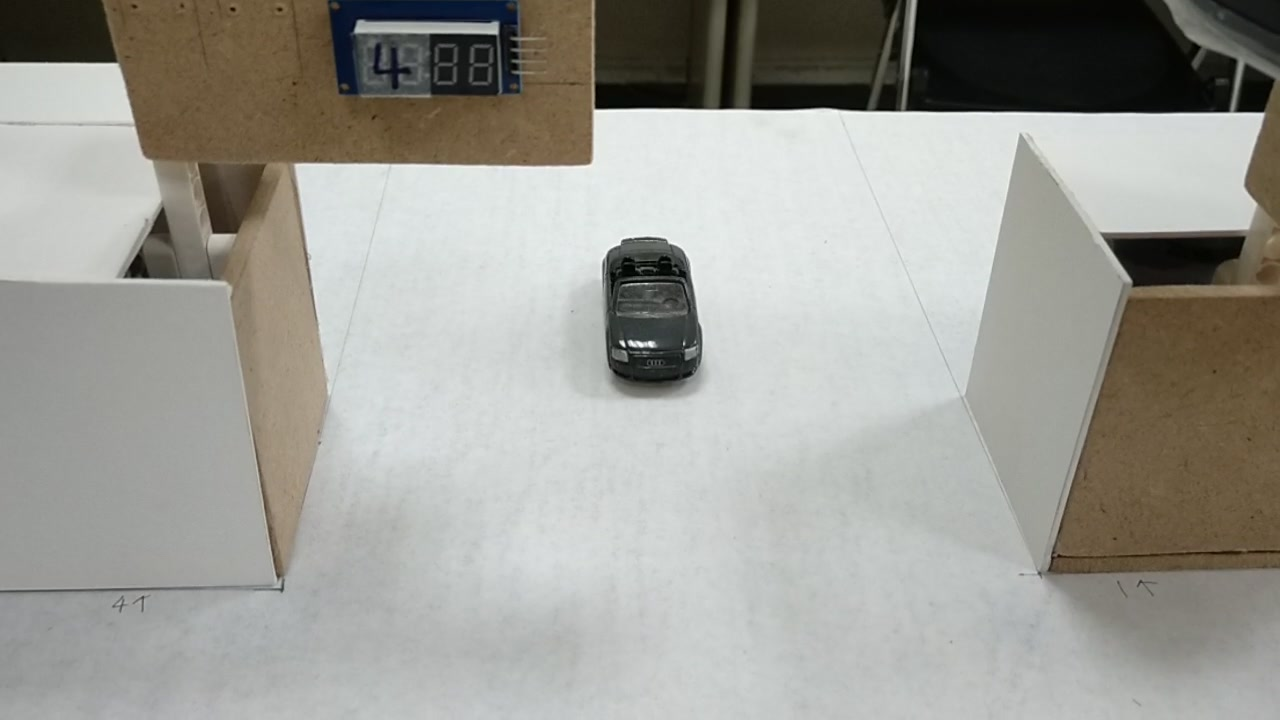car: (599, 241, 705, 381)
